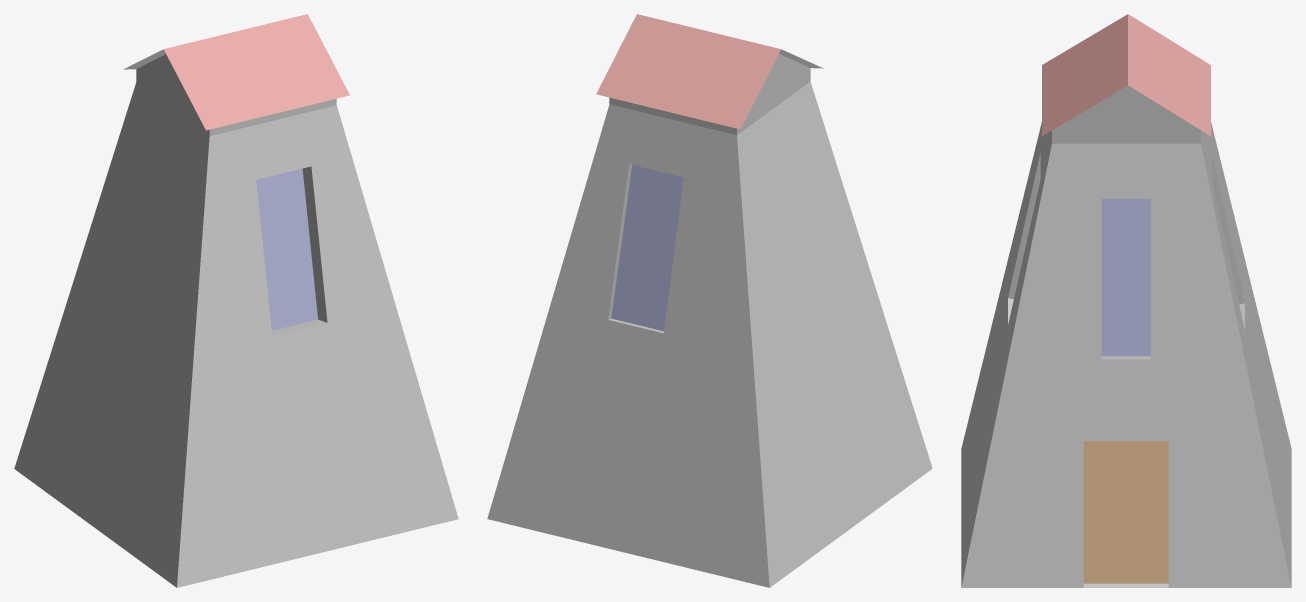
Rendered from CasaUno.fbx.
3 renders of one model, left to right at view 1: azimuth 30°, elevation 25°; view 2: azimuth 150°, elevation 25°; view 3: azimuth 270°, elevation 25°, orthographic.
Visible parts, largest first — view 1: CasaUno; view 2: CasaUno; view 3: CasaUno.
Boxes of the visible parts, left/top/right/bottom form: CasaUno: left=14, top=14, right=458, bottom=587; CasaUno: left=487, top=14, right=932, bottom=587; CasaUno: left=961, top=14, right=1291, bottom=587.
Size of the model in its own units: 1167 by 1835 by 1167.
